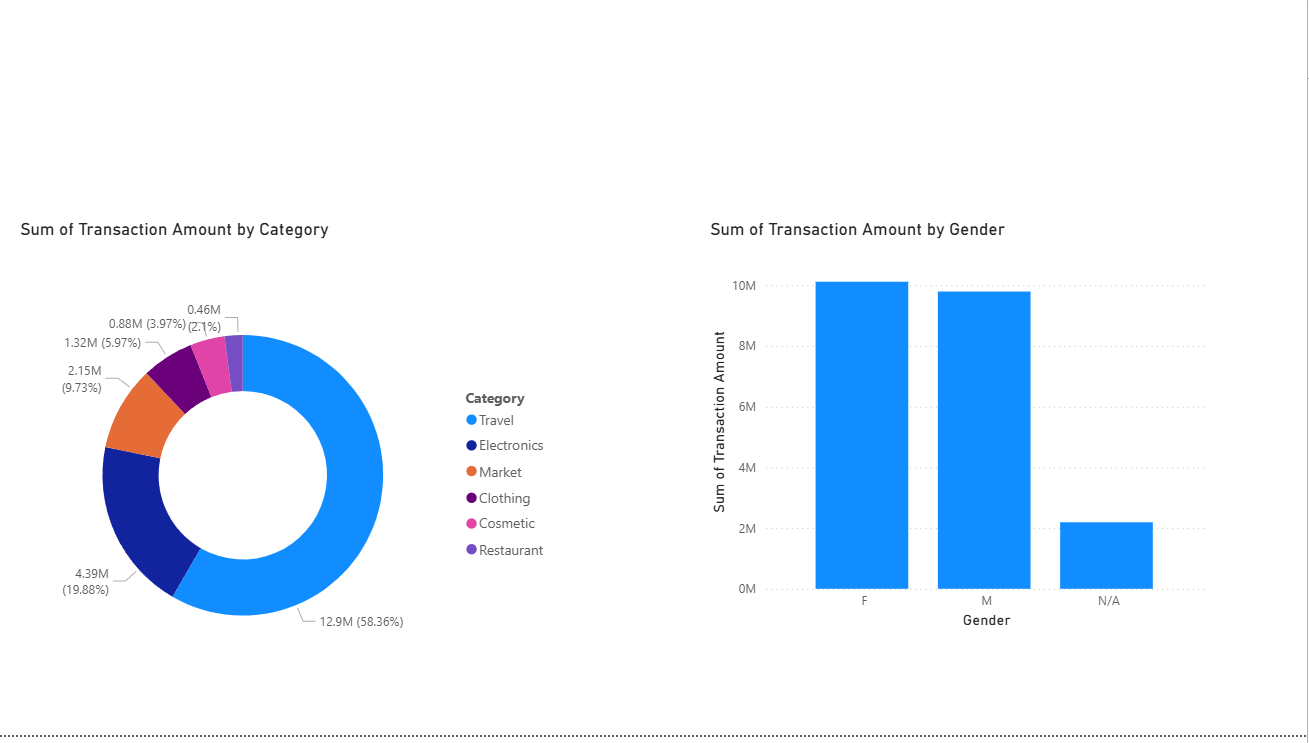

Layout of this report page (visuals, bound fields, positions):
{"tool":"powerbi","page":{"name":"Page 1","canvas":[1280,720],"ordinal":0},"visuals":[{"type":"donutChart","fields":{"Category":["credit_card_transaction_flow_cleaneddata.Category"],"Y":["Sum(credit_card_transaction_flow_cleaneddata.Transaction Amount)"]},"box":[23.3,217.9,528.1,477.6],"z":0},{"type":"clusteredColumnChart","fields":{"Category":["credit_card_transaction_flow_cleaneddata.Gender"],"Y":["Sum(credit_card_transaction_flow_cleaneddata.Transaction Amount)"]},"box":[694.5,217.9,493.1,402.7],"z":1}]}

Visuals, with their boxes in screenshot pixels (x1, y1, x2, y2), scaled from the page's 1280x720 canvas onto the 1309x743 screenshot:
donutChart - credit_card_transaction_flow_cleaneddata.Category x Sum(credit_card_transaction_flow_cleaneddata.Transaction Amount): [24,225,564,718]
clusteredColumnChart - credit_card_transaction_flow_cleaneddata.Gender x Sum(credit_card_transaction_flow_cleaneddata.Transaction Amount): [710,225,1215,640]
